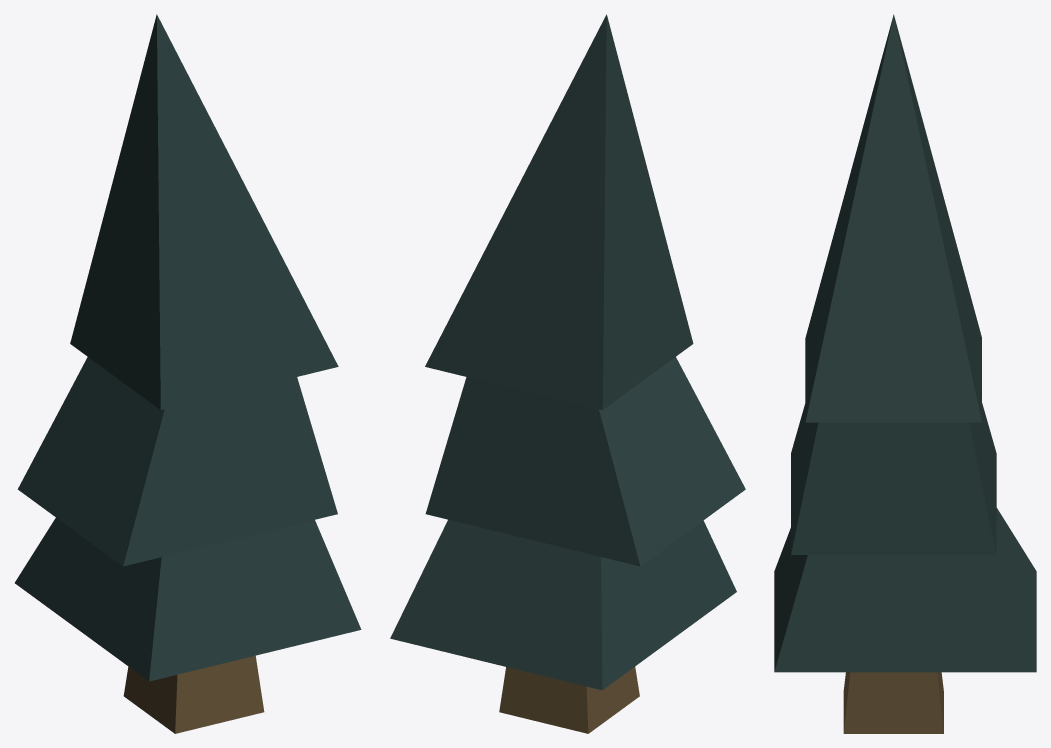
File: Tree_01.obj
The picture shows the model from 3 angles, left to right: view 1: azimuth 30°, elevation 25°; view 2: azimuth 150°, elevation 25°; view 3: azimuth 270°, elevation 25°; orthographic projection. The views are drawn at different scales.
Parts seen in each view (by area): view 1: Mesh1_Tree_Model; view 2: Mesh1_Tree_Model; view 3: Mesh1_Tree_Model.
Part boxes in pixels (x1,y1,x2,y2): Mesh1_Tree_Model: (15, 14, 361, 733); Mesh1_Tree_Model: (390, 14, 745, 733); Mesh1_Tree_Model: (774, 14, 1036, 733).
Size of the model in its own units: 1.28 by 3.71 by 1.3.
